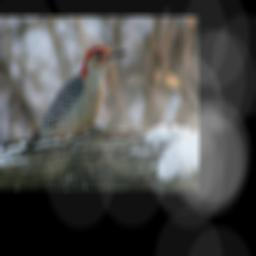Woodpecker: (21, 47, 129, 153)
